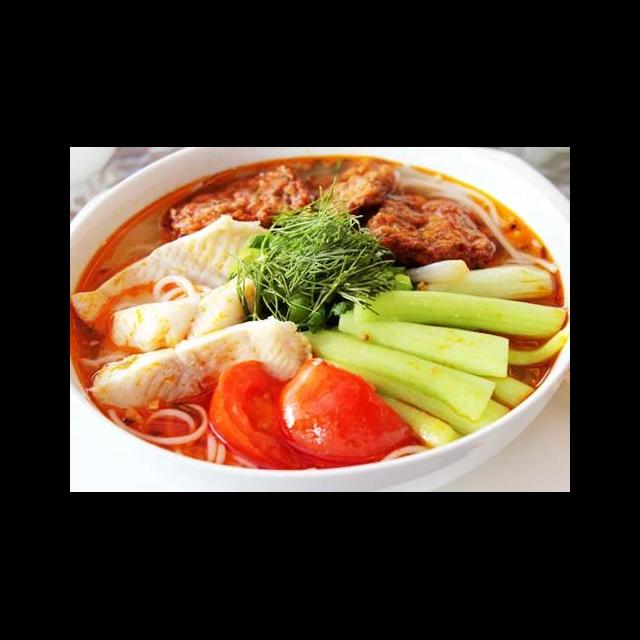bun: (101, 398, 257, 469)
bun ca: (90, 167, 563, 483)
ca: (71, 204, 275, 336), (79, 312, 321, 419), (98, 266, 276, 356)
